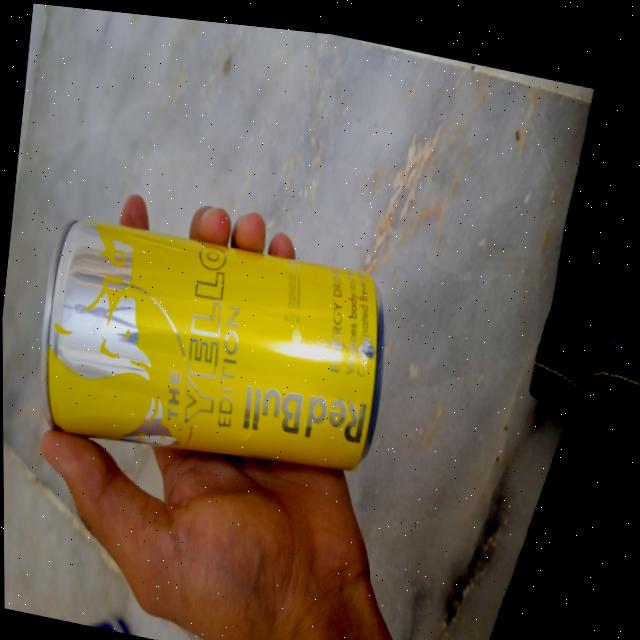Redbull Yellow Edition: (20, 175, 393, 506)
